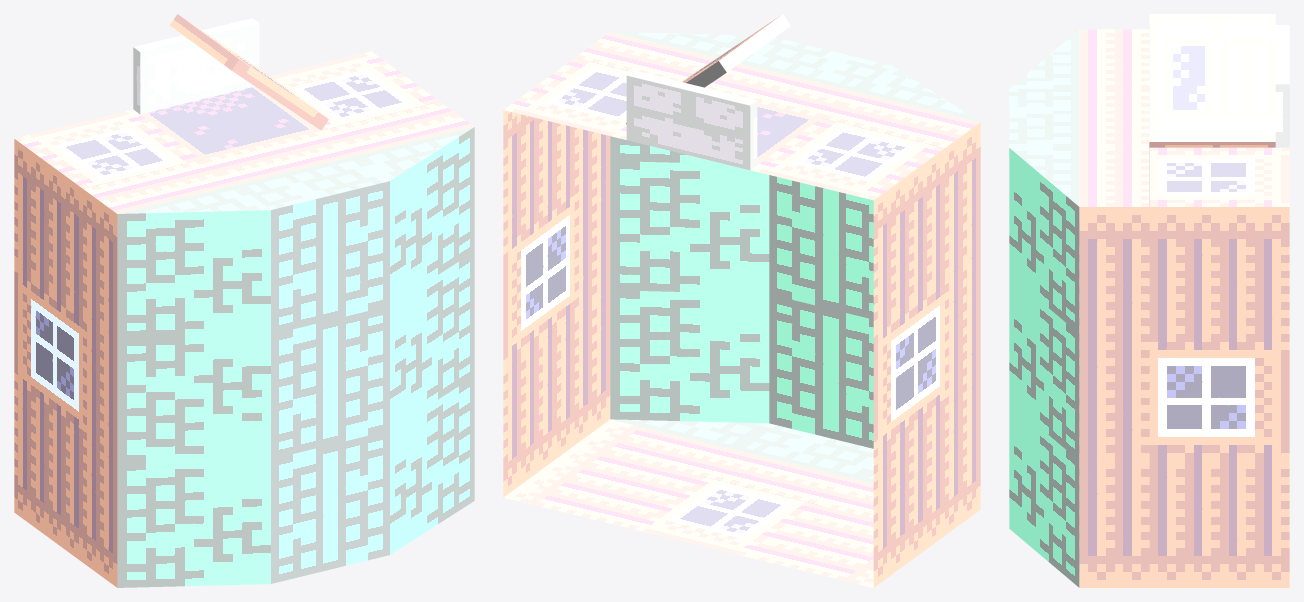
File: lil-house.glb
The picture shows the model from 3 angles, left to right: view 1: azimuth 30°, elevation 25°; view 2: azimuth 150°, elevation 25°; view 3: azimuth 270°, elevation 25°; orthographic projection. The views are drawn at different scales.
Parts seen in each view (by area): view 1: Cube, Cube.001; view 2: Cube, Cube.001; view 3: Cube, Cube.001.
Part boxes in pixels (left/top/right/bottom): Cube: left=14, top=18, right=474, bottom=587; Cube.001: left=170, top=14, right=328, bottom=130; Cube: left=503, top=32, right=980, bottom=587; Cube.001: left=626, top=14, right=790, bottom=123; Cube: left=1009, top=25, right=1289, bottom=587; Cube.001: left=1149, top=14, right=1275, bottom=147.
Size of the model in its own units: 1.5 by 1.87 by 1.
